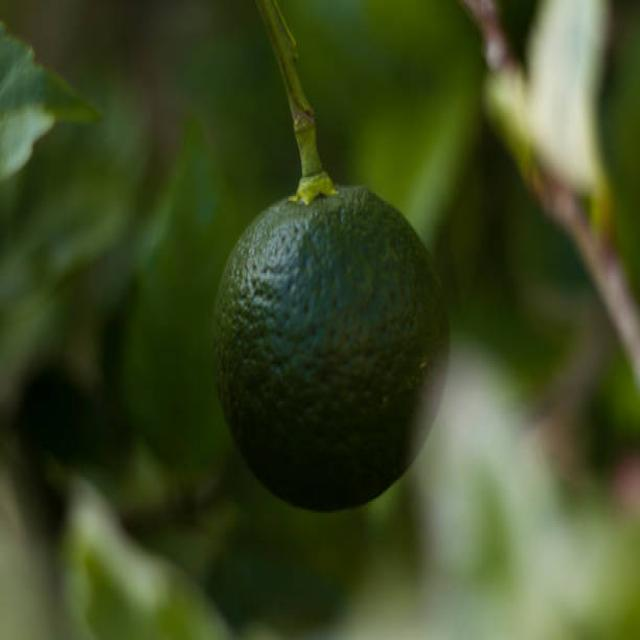Unripe: (211, 178, 450, 513)
